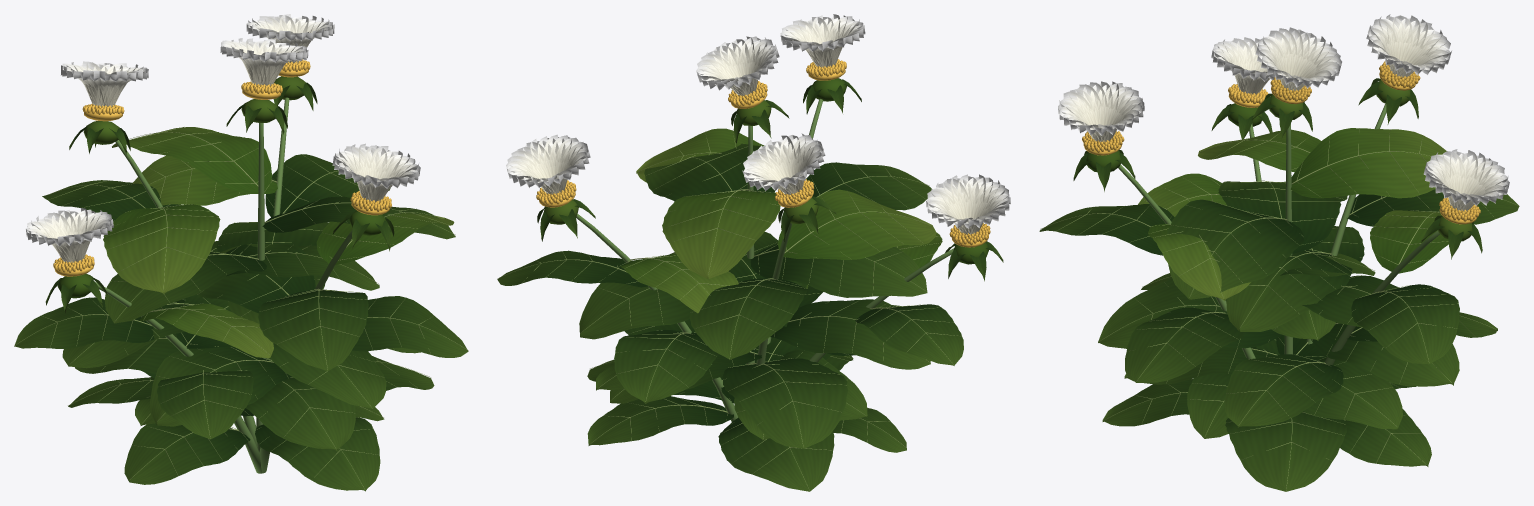
Rendered from daisy-09.glb.
3 views of the same model, side by side, from view 1: azimuth 30°, elevation 25°; view 2: azimuth 150°, elevation 25°; view 3: azimuth 270°, elevation 25° (orthographic). The views are drawn at different scales.
Visible parts, largest first — view 1: daisy_stage_09_leaf_veins.016, daisy_stage_09_young_leaf.016, daisy_stage_09_daisy_petal.016, daisy_stage_09_raised_midveins.016, daisy_stage_09_stem_fibres.016, daisy_stage_09_pollen_granules.016; view 2: daisy_stage_09_leaf_veins.016, daisy_stage_09_young_leaf.016, daisy_stage_09_daisy_petal.016, daisy_stage_09_raised_midveins.016, daisy_stage_09_pollen_granules.016, daisy_stage_09_stem_fibres.016; view 3: daisy_stage_09_leaf_veins.016, daisy_stage_09_young_leaf.016, daisy_stage_09_daisy_petal.016, daisy_stage_09_raised_midveins.016, daisy_stage_09_pollen_granules.016, daisy_stage_09_stem_fibres.016.
Part boxes in pixels (x1,y1,x2,y2): daisy_stage_09_leaf_veins.016: (14,82,468,491); daisy_stage_09_young_leaf.016: (57,76,454,358); daisy_stage_09_daisy_petal.016: (26,14,420,262); daisy_stage_09_raised_midveins.016: (14,127,468,489); daisy_stage_09_stem_fibres.016: (95,97,352,473); daisy_stage_09_pollen_granules.016: (53,59,391,276); daisy_stage_09_leaf_veins.016: (497,79,1003,491); daisy_stage_09_young_leaf.016: (544,78,988,313); daisy_stage_09_daisy_petal.016: (506,14,1010,234); daisy_stage_09_raised_midveins.016: (497,130,961,490); daisy_stage_09_pollen_granules.016: (536,59,990,247); daisy_stage_09_stem_fibres.016: (576,99,954,421); daisy_stage_09_leaf_veins.016: (1039,78,1519,491); daisy_stage_09_young_leaf.016: (1086,80,1472,300); daisy_stage_09_daisy_petal.016: (1058,14,1509,211); daisy_stage_09_raised_midveins.016: (1040,128,1518,490); daisy_stage_09_pollen_granules.016: (1082,61,1480,224); daisy_stage_09_stem_fibres.016: (1118,103,1439,364).
Size of the model in its own units: 0.3755 by 0.3527 by 0.3611.
Materials: 6 (3 with a texture image).
